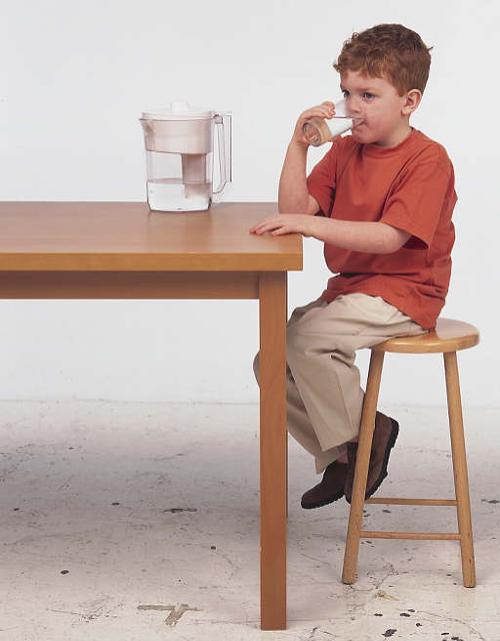person: (251, 23, 463, 513)
